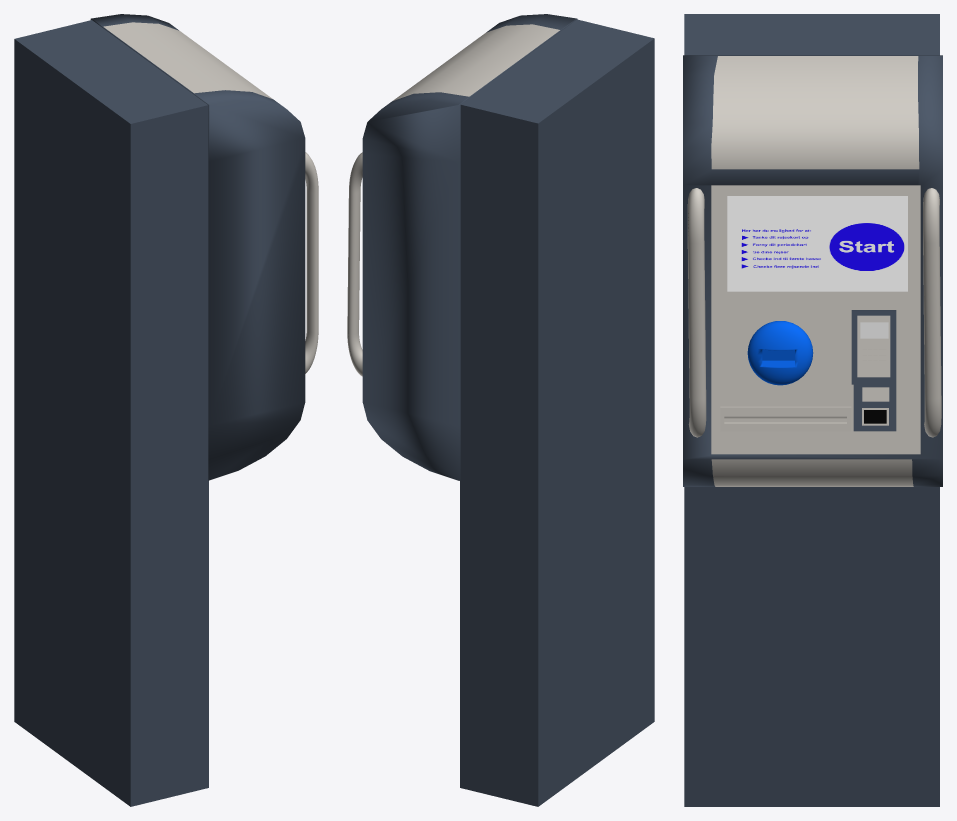
The model's file is RejsekortAutomat.fbx.
The picture shows the model from 3 angles, left to right: view 1: azimuth 30°, elevation 25°; view 2: azimuth 150°, elevation 25°; view 3: azimuth 270°, elevation 25°; orthographic projection. The views are drawn at different scales.
Visible parts, largest first — view 1: Cube.002, Cube.001, Plane.002; view 2: Cube.002, Cube.001, Plane.001; view 3: Cube.002, Cube.001, Cube.026, Rejsekortautomatskærm, Plane.002, Plane.001, Sphere, Cube, Cube.006, Cube.005, Cube.003, Cube.025.
Part boxes in pixels (<box>): Cube.002: <box>14,20,208,806</box>; Cube.001: <box>90,14,305,480</box>; Plane.002: <box>305,152,318,373</box>; Cube.002: <box>460,19,654,806</box>; Cube.001: <box>362,14,577,480</box>; Plane.001: <box>347,152,362,376</box>; Cube.002: <box>684,14,939,806</box>; Cube.001: <box>683,55,942,486</box>; Cube.026: <box>711,185,920,454</box>; Rejsekortautomatskærm: <box>727,196,907,291</box>; Plane.002: <box>687,188,706,437</box>; Plane.001: <box>923,188,941,437</box>; Sphere: <box>747,321,813,385</box>; Cube: <box>720,406,851,431</box>; Cube.006: <box>857,315,890,377</box>; Cube.005: <box>851,310,896,384</box>; Cube.003: <box>853,384,896,431</box>; Cube.025: <box>860,322,888,338</box>.
Bounding box in the file's own units: 373 × 1264 × 396.
5 materials, 1 textured.
